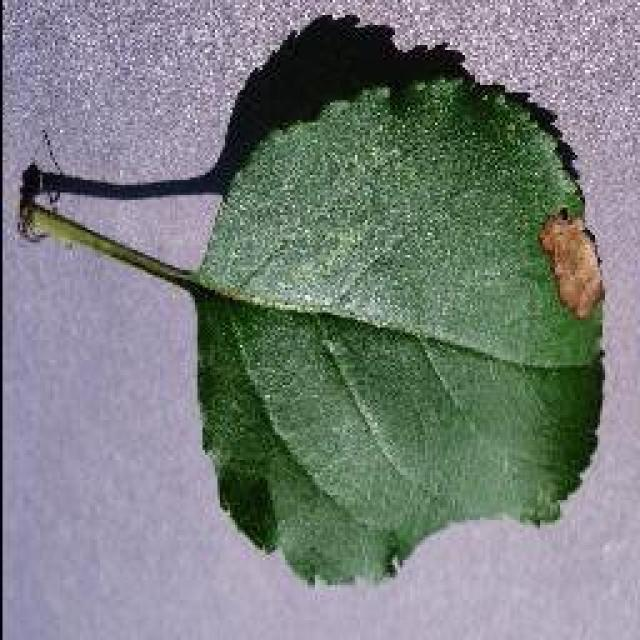apple healthy: (15, 10, 610, 588)
